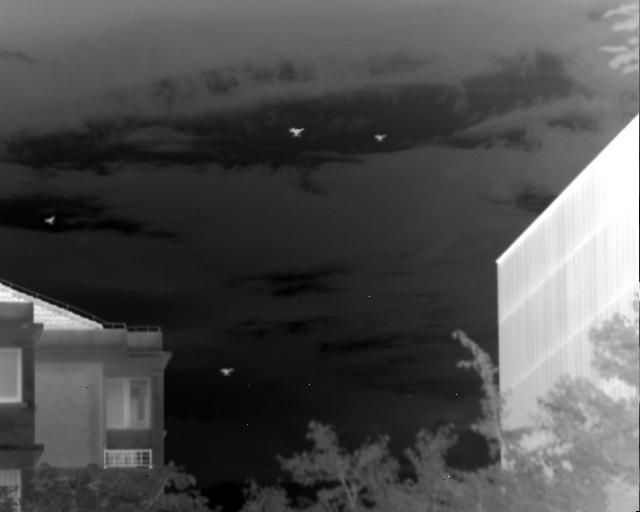plane: (289, 127, 304, 136), (374, 133, 387, 142), (46, 216, 55, 224), (221, 368, 233, 374)
